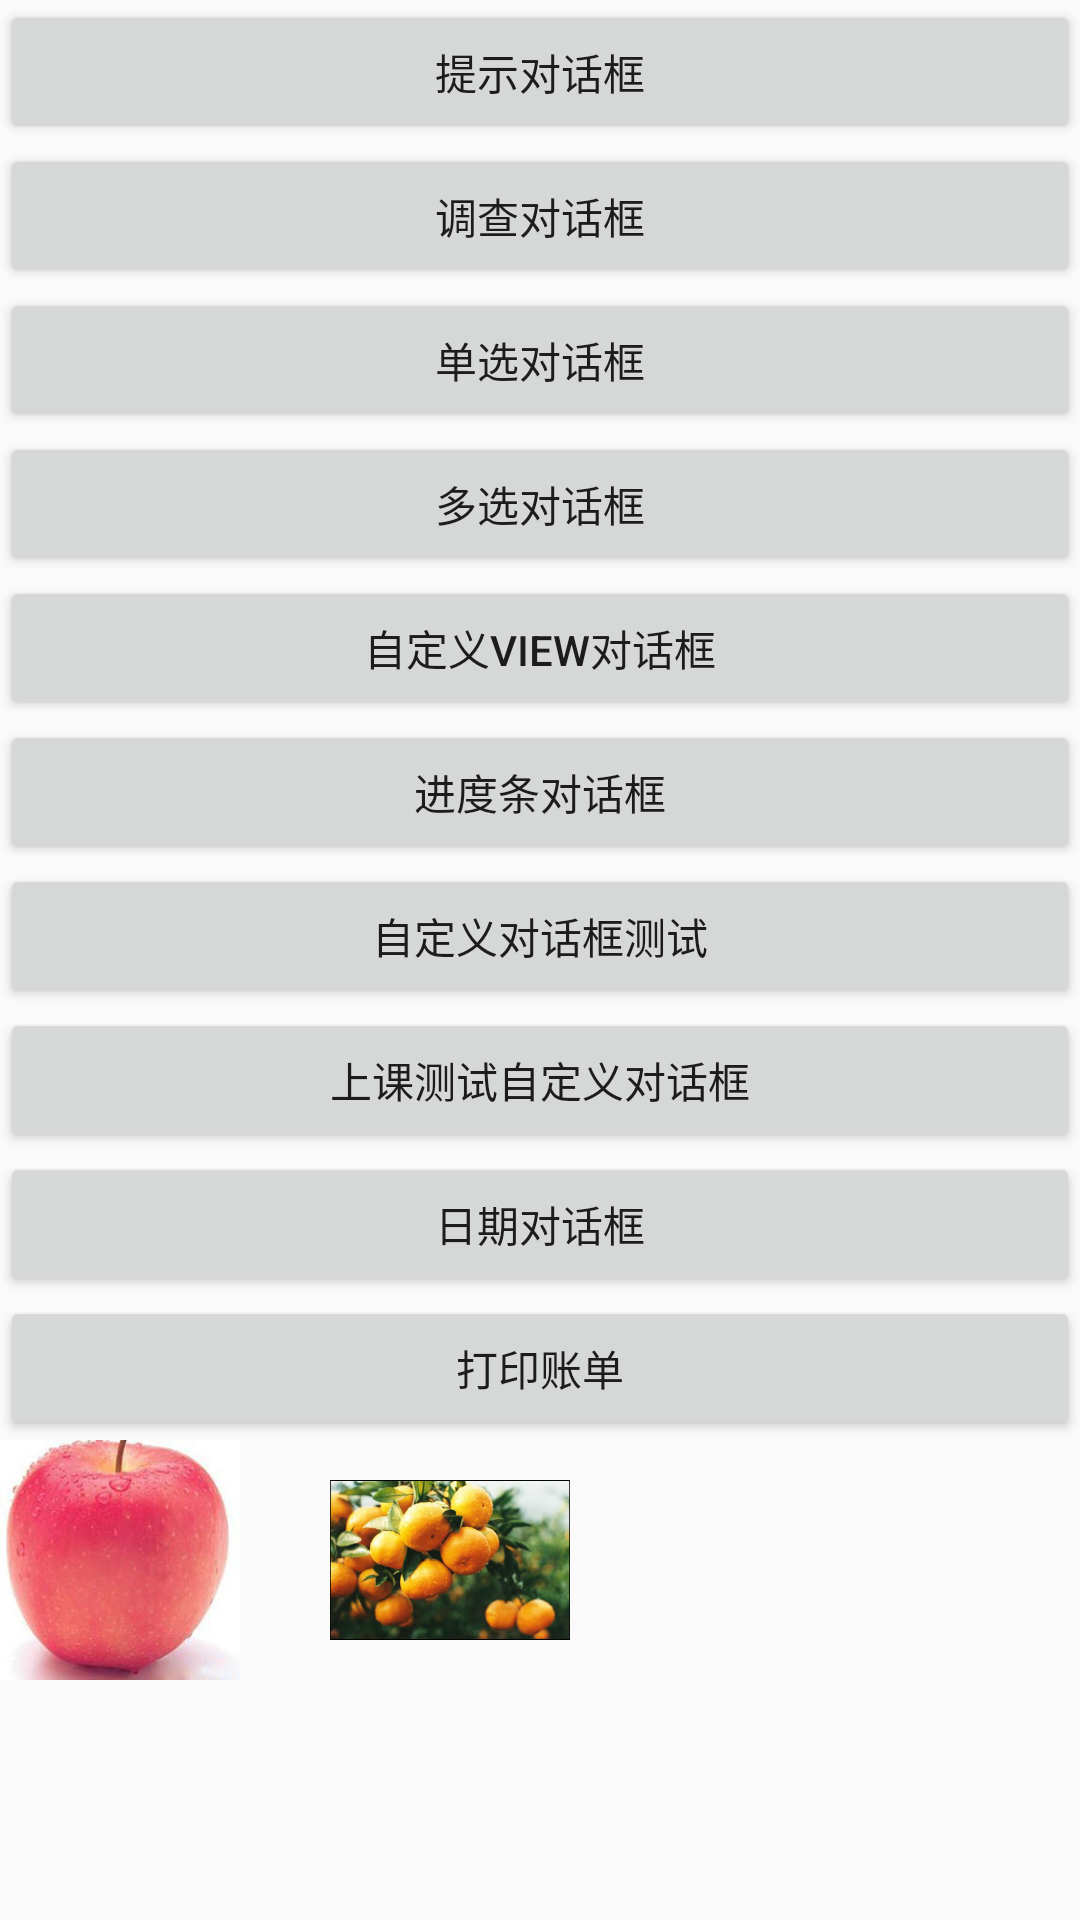

Icons on this 1080 x 1920 Android screen, each with the point to tap as (x=x, y=y):
apple: (x=117, y=1560)
